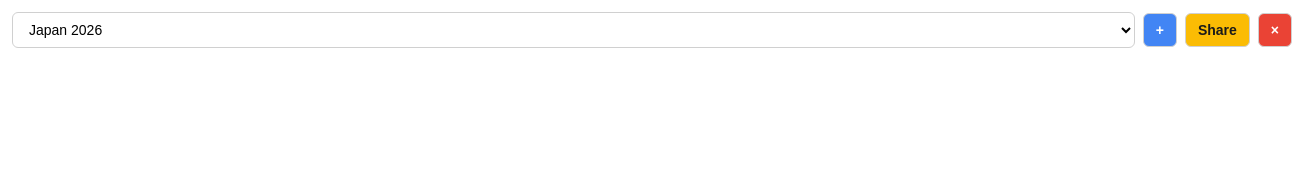
TripSelector › shows create form when + button clicked
The image size is (1304, 172).
Click the button titled "New trip": (1160, 30) [1143,13,1177,47]
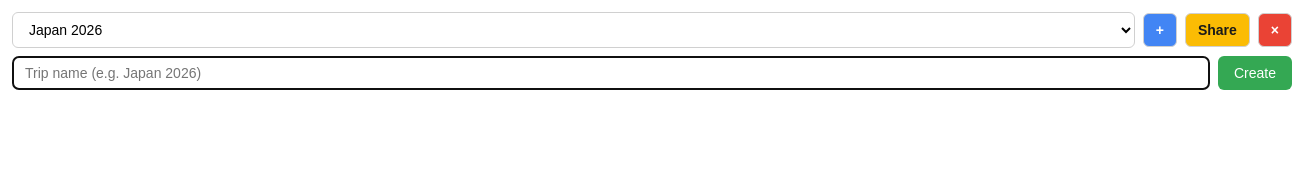
Result: the field with placeholder "Trip name (e.g. Japan 2026)" is shown at [12,56,1210,90]
